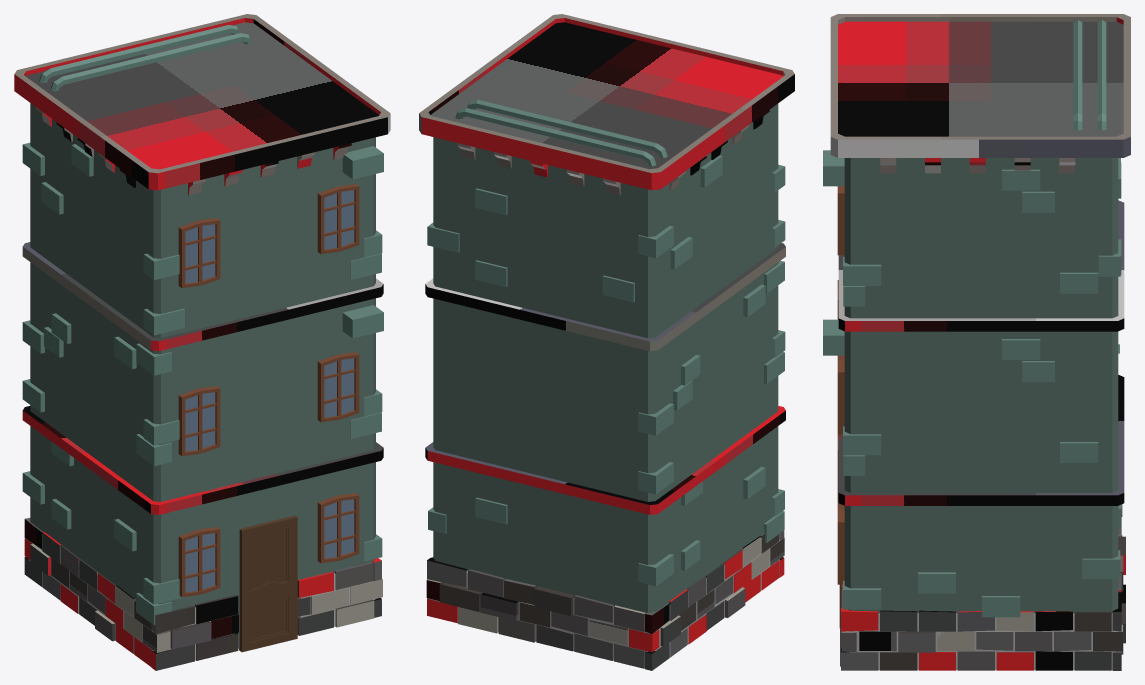
File: quaternius-ultimate-textured-building-3-story-small-mat.glb
The picture shows the model from 3 angles, left to right: view 1: azimuth 30°, elevation 25°; view 2: azimuth 150°, elevation 25°; view 3: azimuth 270°, elevation 25°; orthographic projection. The views are drawn at different scales.
Parts seen in each view (by area): view 1: 3Story_Small_Mat; view 2: 3Story_Small_Mat; view 3: 3Story_Small_Mat.
Boxes of the visible parts, left/top/right/bottom form: 3Story_Small_Mat: left=14, top=14, right=390, bottom=670; 3Story_Small_Mat: left=419, top=14, right=794, bottom=670; 3Story_Small_Mat: left=823, top=14, right=1130, bottom=670.
Size of the model in its own units: 1.91 by 3.85 by 1.97.
Materials: 3 (3 with a texture image).
